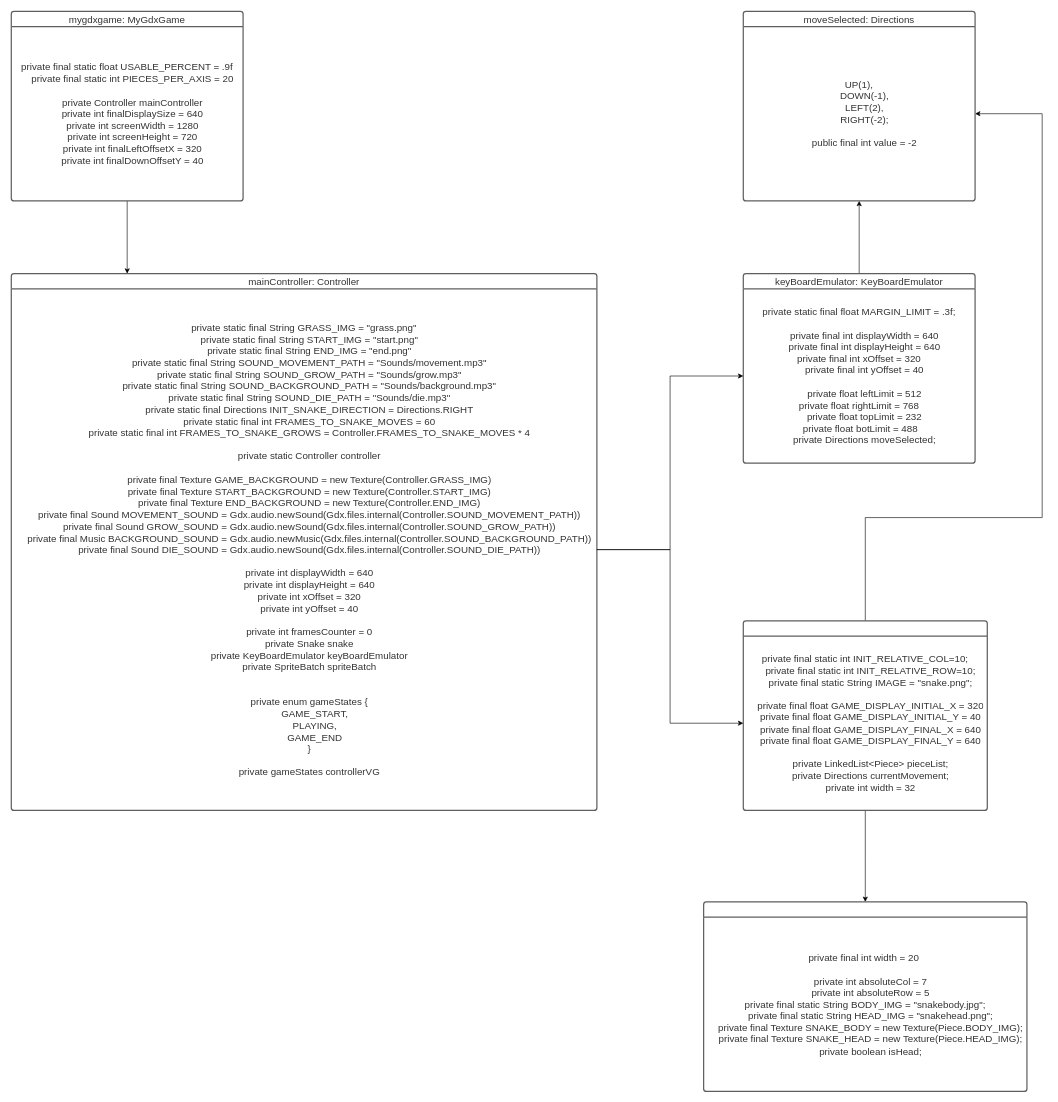
Some shapes in this 1058 by 1102 pixel diagram are drawn without their labels. The shapes that lost their labels are listed below. From the top down, each one's box as (x1, y1, x2, y2) in pixels, then its label:
(742, 620, 988, 811): snake: Snake
(703, 901, 1027, 1092): pieceList[0]: Piece
